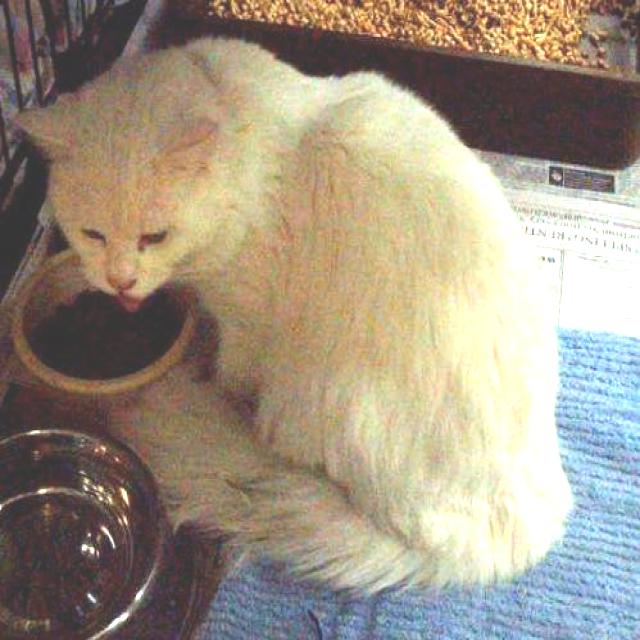Kucing: (6, 22, 634, 624)
